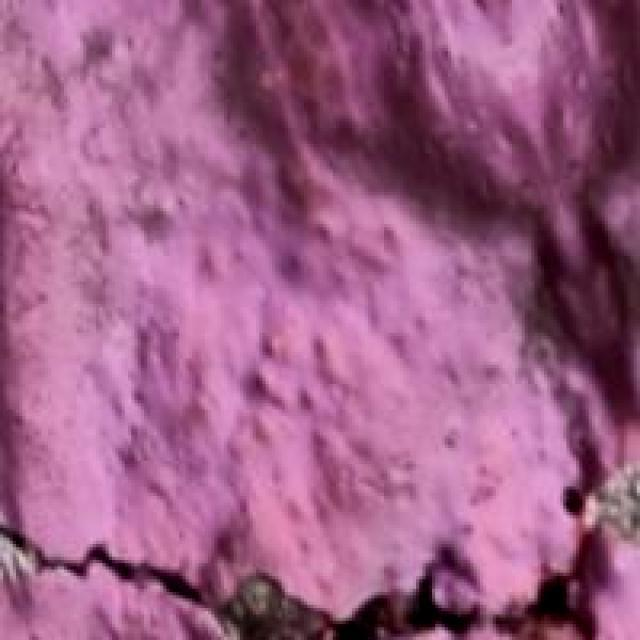crack: (0, 454, 594, 640)
